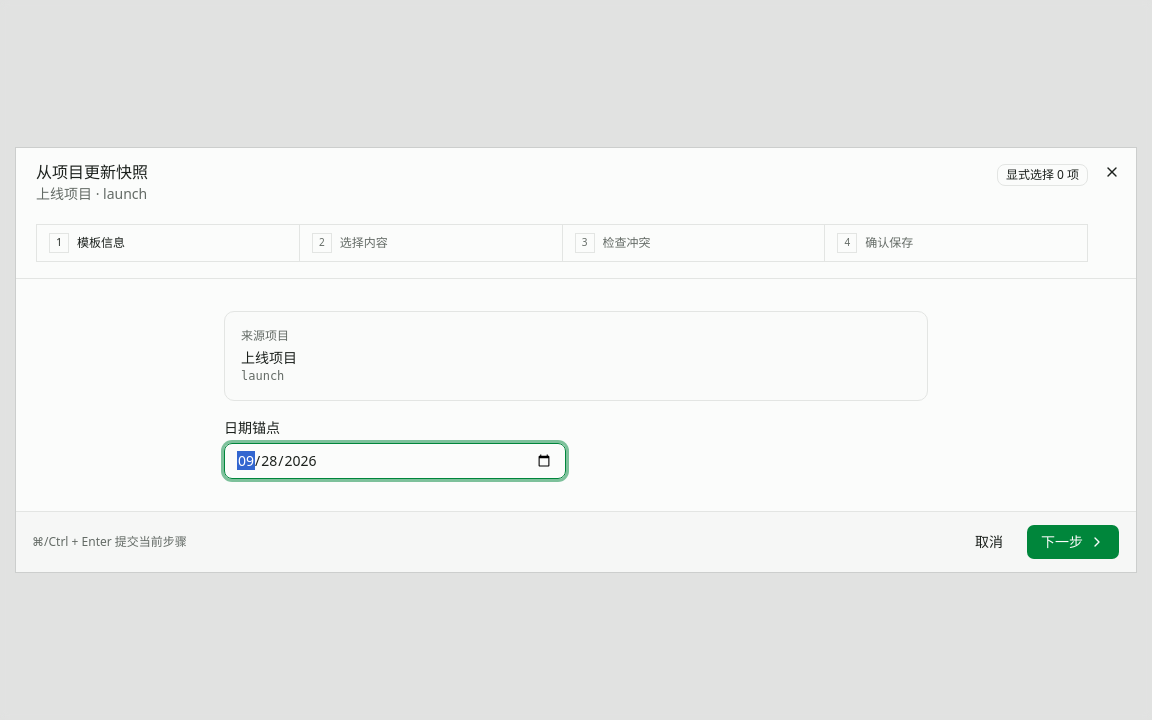
Scenario: ProjectTemplateCaptureWizard › keeps explicit selections while filters and pages change
This screenshot has width=1152, height=720.
Click the button "下一步" at (1073, 542), box [1026,524,1120,560]
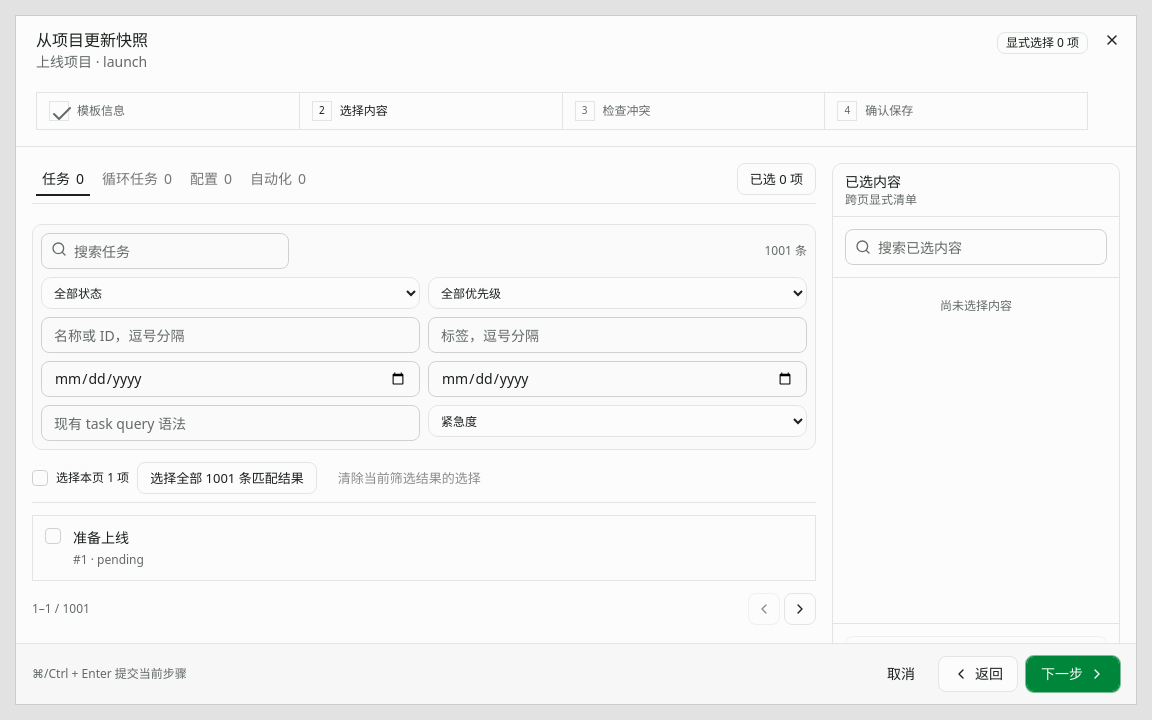
Result: the tab "任务 0" is shown at [35,166,91,192]
Click the checkbox named "准备上线" at (53, 536), box [45,528,61,544]
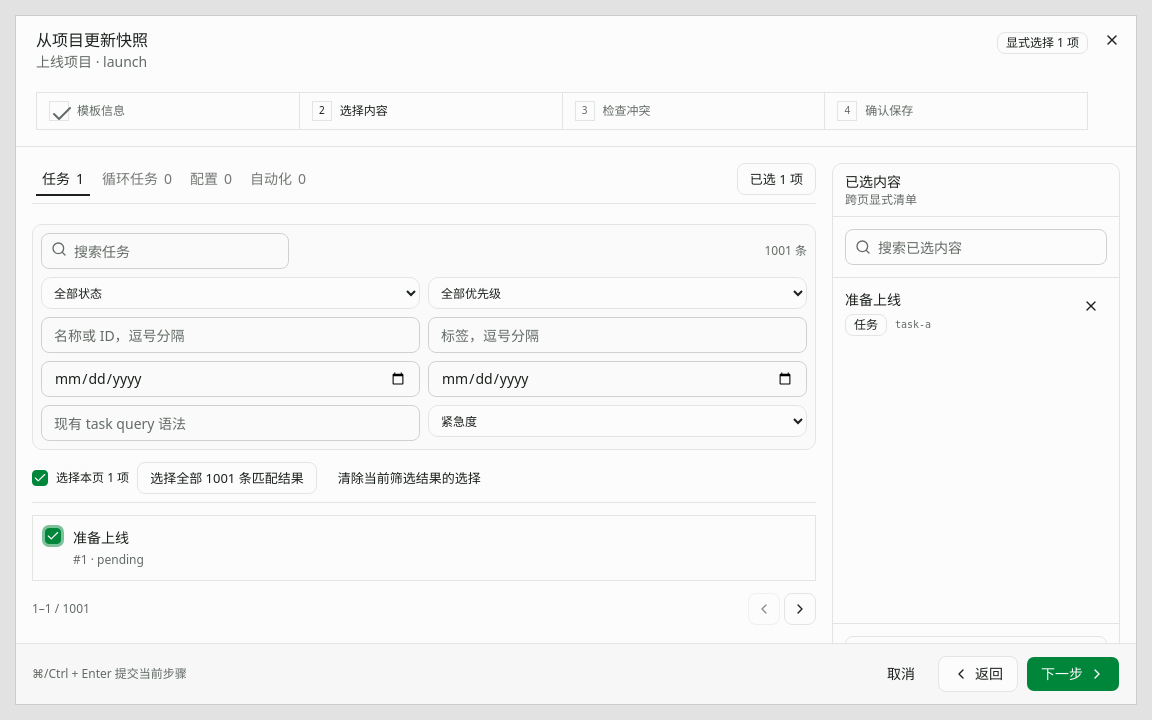
Type "上线" into the field labelled "搜索任务" at (165, 251), box [41,233,289,269]
Click the button named "下一页" at (800, 609), box [784,593,816,625]
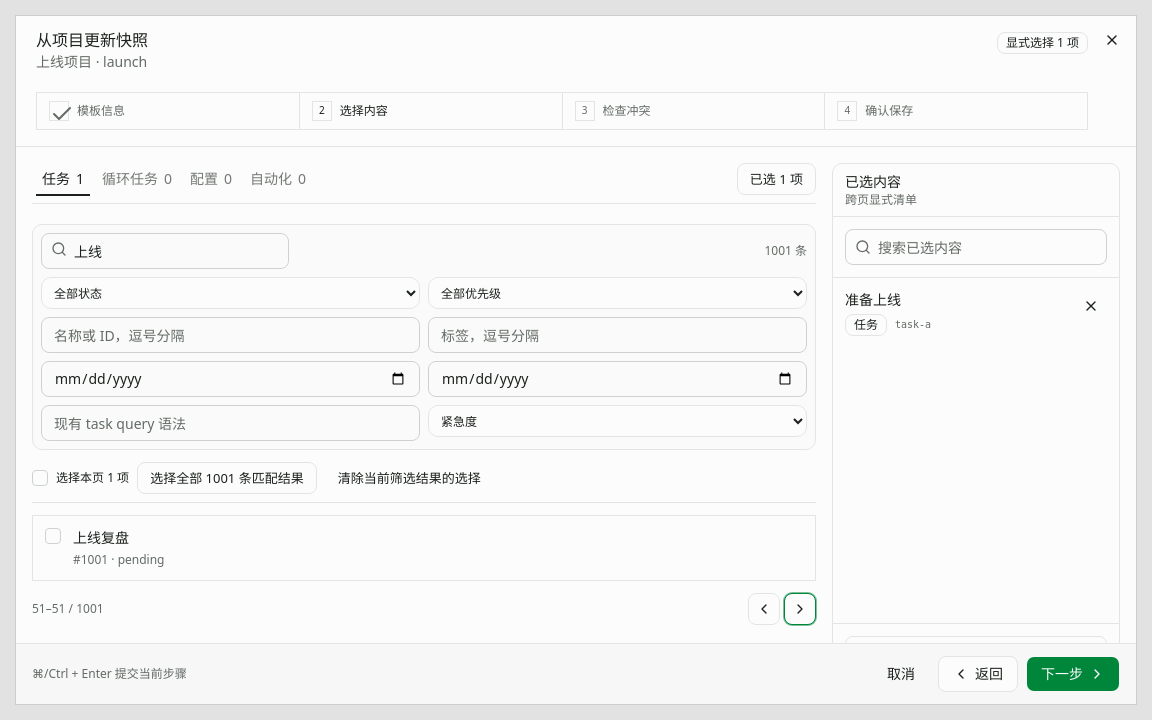
Click the checkbox named "上线复盘" at (53, 536), box [45,528,61,544]
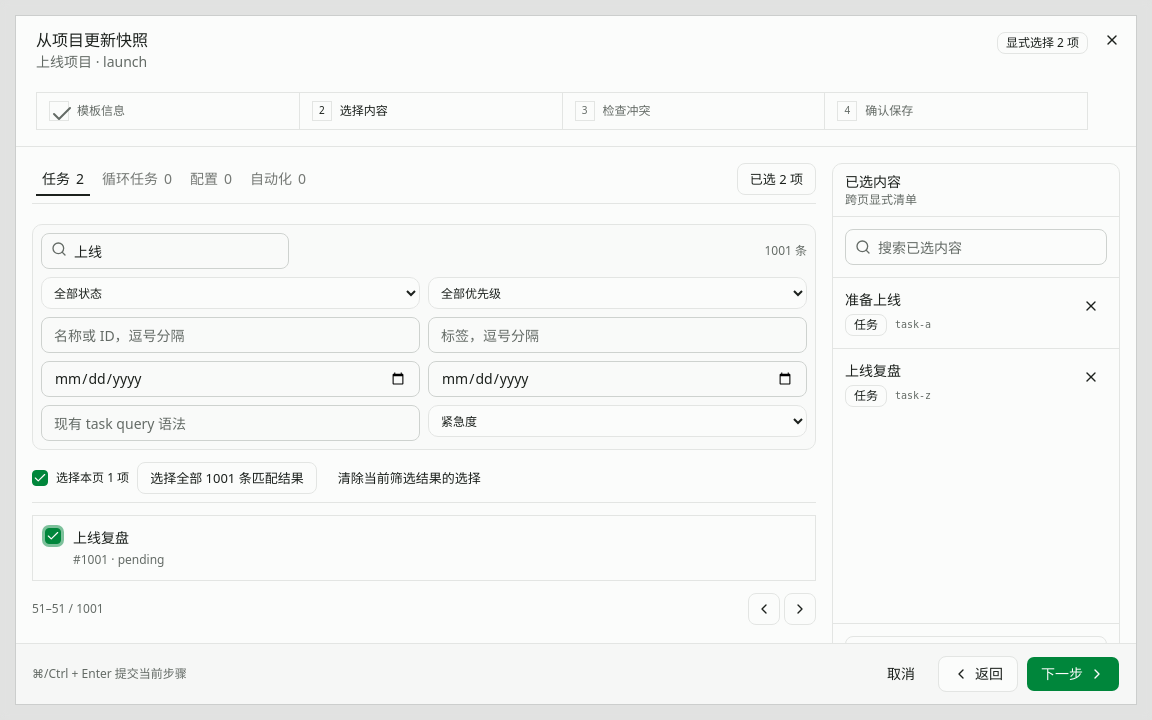
Result: the button "已选 2 项" is shown at [737,163,816,195]
Click the button "清除当前筛选结果的选择" at (409, 478), box [325,462,494,494]
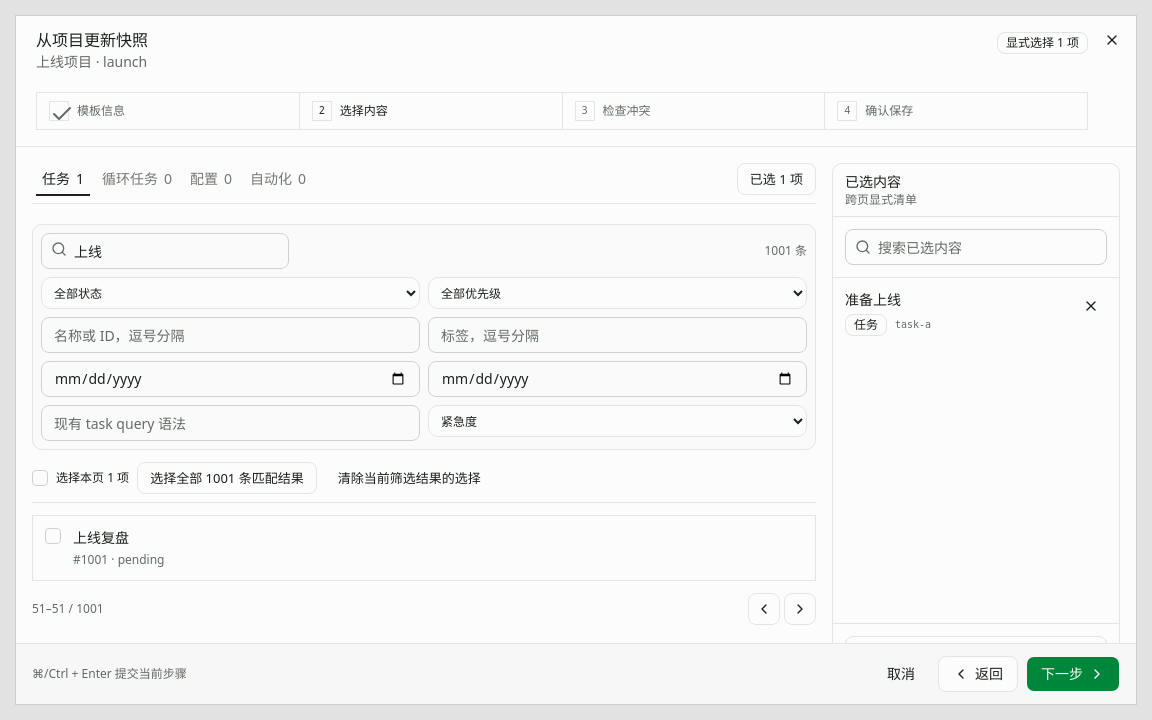
Result: the button "已选 1 项" is shown
Click the button "已选 1 项" at (776, 179), box [737,163,816,195]
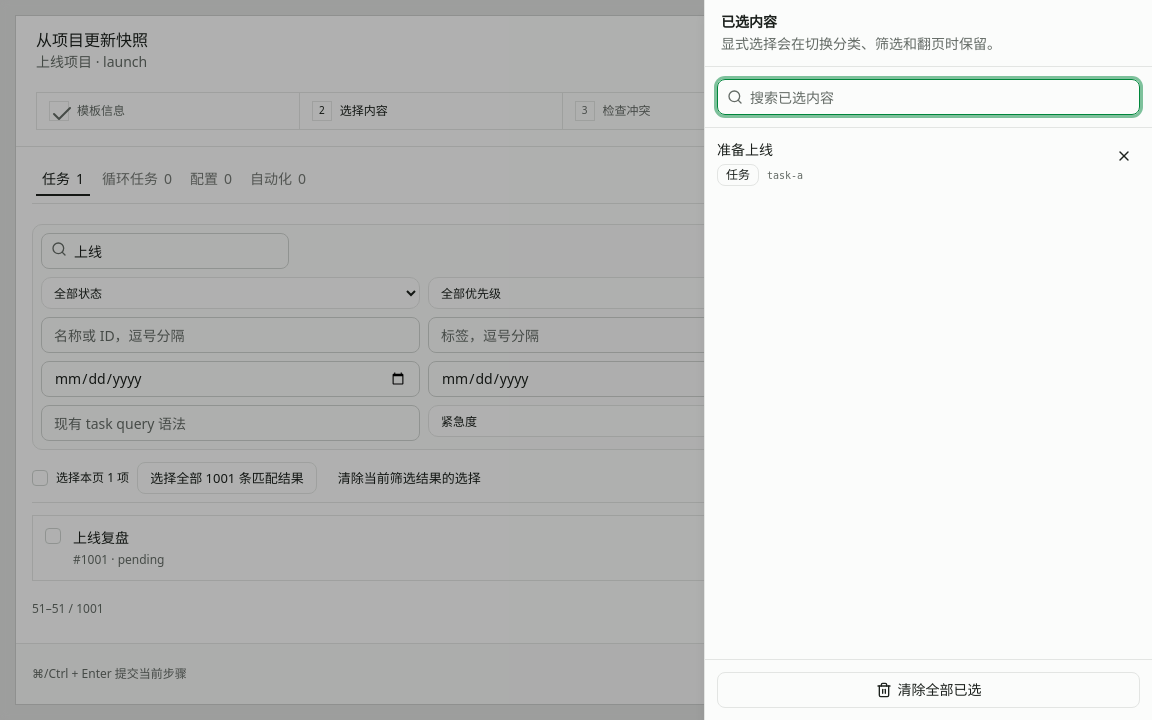
Result: the text "准备上线" is shown at [717,140,773,159]
